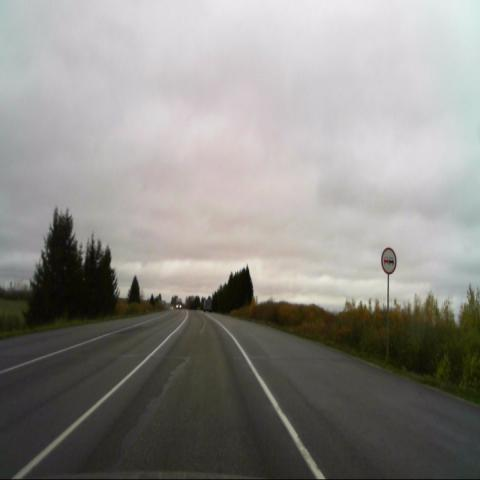3_20: (381, 247, 397, 274)
